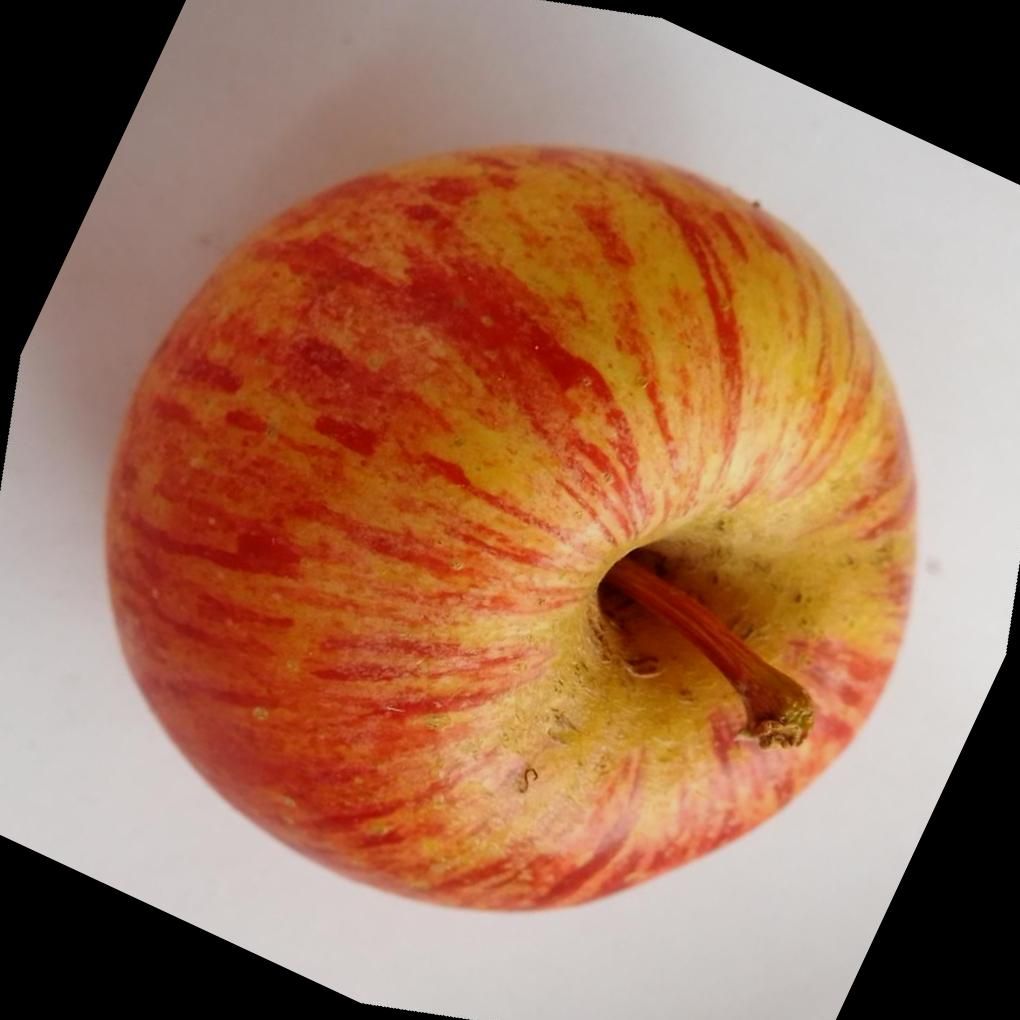FreshGuava: (100, 142, 918, 918)
